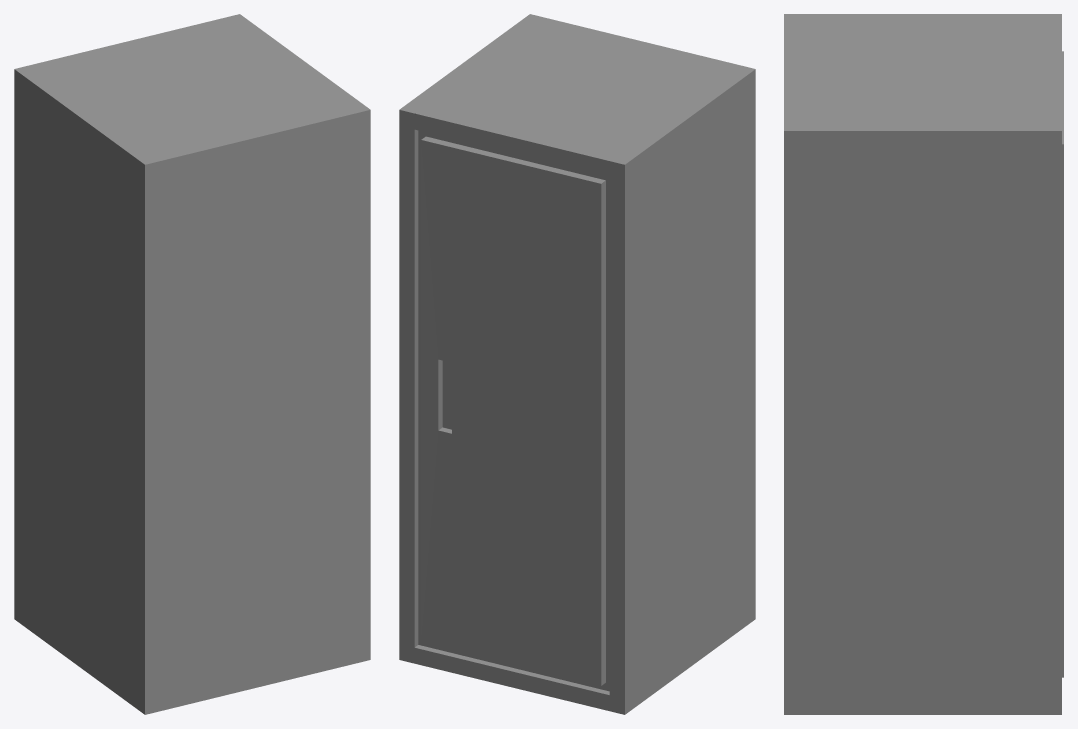
Rendered from locker.obj.
3 renders of one model, left to right at view 1: azimuth 30°, elevation 25°; view 2: azimuth 150°, elevation 25°; view 3: azimuth 270°, elevation 25°, orthographic. The views are drawn at different scales.
Visible parts, largest first — view 1: locker; view 2: locker; view 3: locker.
Boxes of the visible parts, x1,y1,x2,y2 form: locker: (14,14,370,714); locker: (399,14,755,714); locker: (784,14,1063,714).
Bounding box in the file's own units: 0.8586 × 2 × 0.8681.
1 material, 1 textured.
